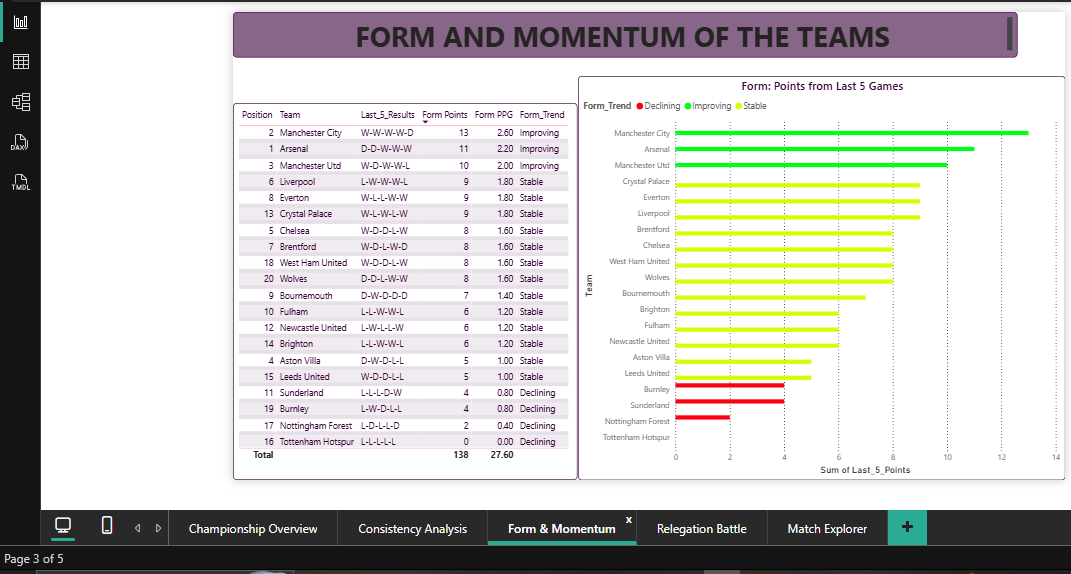

This screenshot's page, from the dashboard's own definition file:
{"tool":"powerbi","page":{"name":"Form & Momentum","canvas":[1280,720],"ordinal":2},"visuals":[{"type":"tableEx","fields":{"Values":["Form_Analysis.Position","Form_Analysis.Team","Form_Analysis.Last_5_Results","Sum(Form_Analysis.Last_5_Points)","Sum(Form_Analysis.Last_5_PPG)","Form_Analysis.Form_Trend"]},"box":[0,140,530,580],"z":0},{"type":"textbox","box":[0,0,1207.1,70],"z":1000},{"type":"clusteredBarChart","title":"Form: Points from Last 5 Games","fields":{"Category":["Form_Analysis.Team"],"Y":["Sum(Form_Analysis.Last_5_Points)"],"Series":["Form_Analysis.Form_Trend"]},"box":[530,98.3,750,621.7],"z":2000}]}

Visuals, with their boxes on the page's 1280x720 design canvas (x1, y1, x2, y2). These are canvas units, not pixel positions in the 1071x574 screenshot, which may show the page scaled, cropped or inside an application window:
tableEx - Form_Analysis.Position x Form_Analysis.Team: select_region(0, 140, 530, 720)
textbox: select_region(0, 0, 1207, 70)
"Form: Points from Last 5 Games" clusteredBarChart: select_region(530, 98, 1280, 720)
